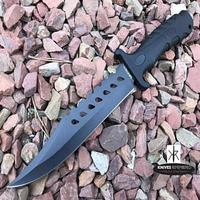knife: (5, 12, 191, 196)
